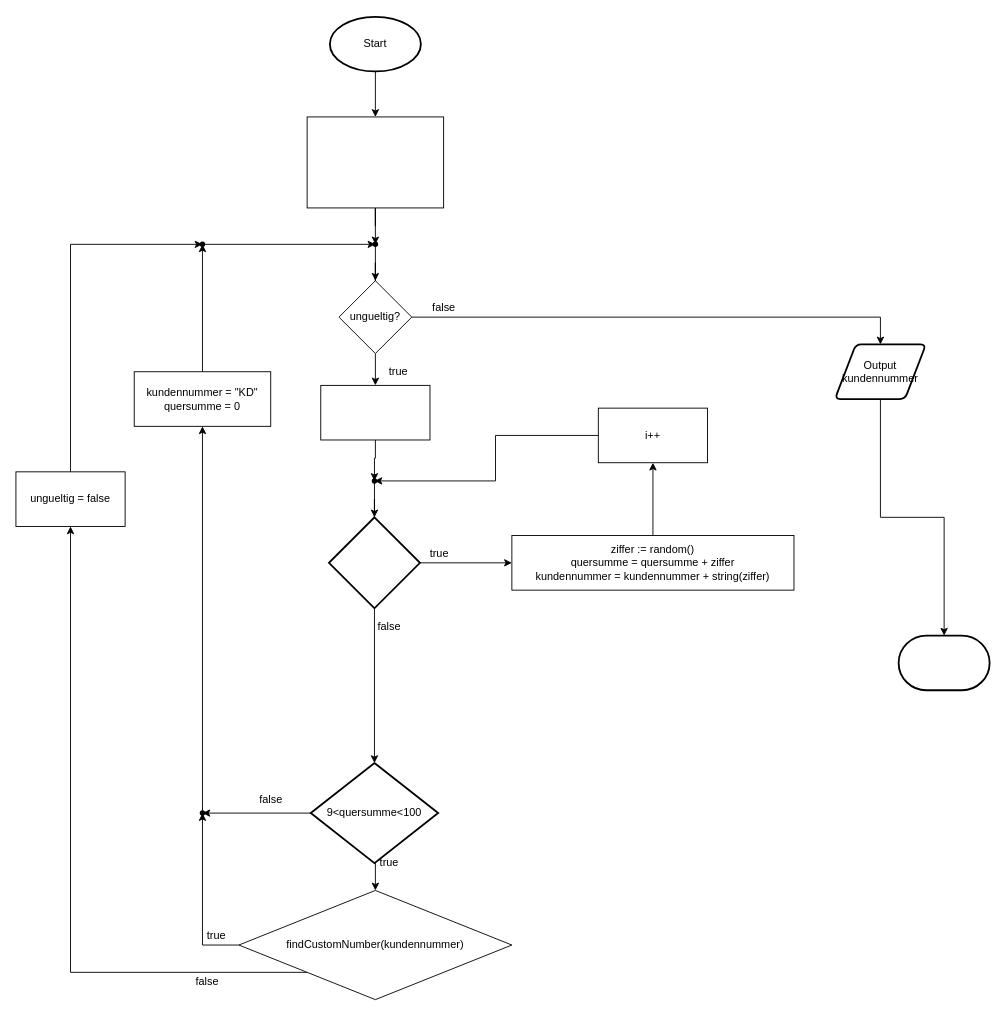
Image size: 1006x1016. Some labels were removed from this diagram. Each missing label, with the box of its shape:
Ende: (897, 634, 990, 691)
i < 8: (328, 516, 420, 609)
i= 0: (320, 384, 430, 440)
kundennummer := "KD" quersumme := 0 ziffer := 0 ungueltig := true: (306, 116, 444, 208)
